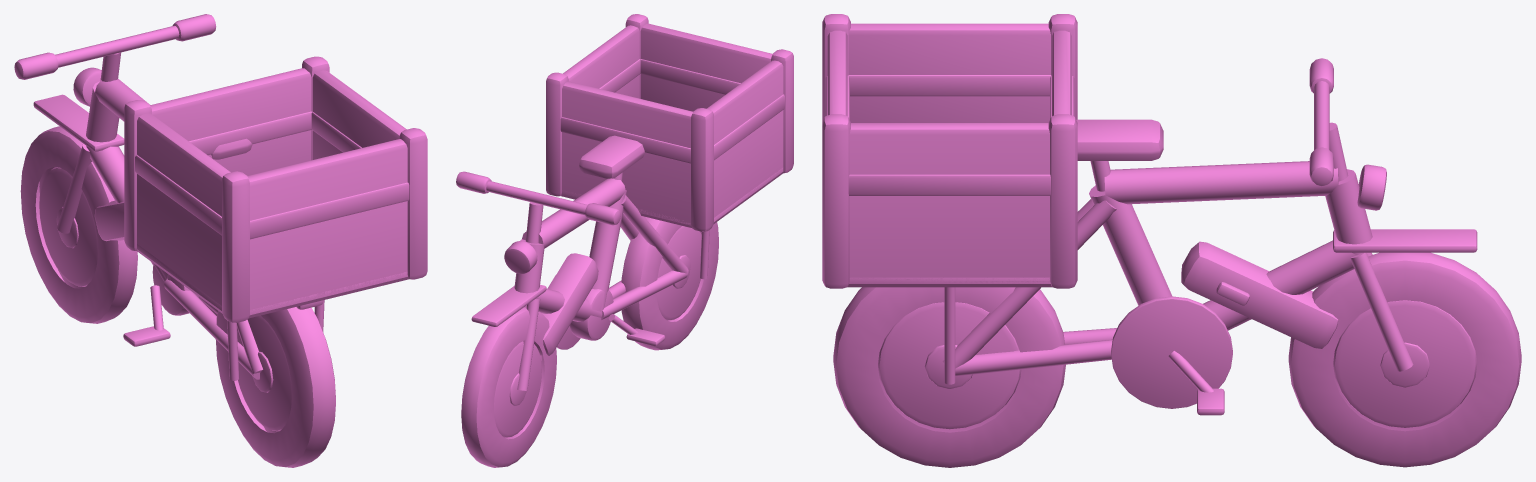
The model's file is Vehicle_EBike.fbx.
3 renders of one model, left to right at view 1: azimuth 30°, elevation 25°; view 2: azimuth 150°, elevation 25°; view 3: azimuth 270°, elevation 25°, orthographic. The views are drawn at different scales.
Parts seen in each view (by area): view 1: Body, FrontWheel, RearWheel, Paint; view 2: Body, FrontWheel, Paint, RearWheel; view 3: Body, FrontWheel, RearWheel, Paint.
Part boxes in pixels (x1=…): Body: x1=14, y1=14, x2=427, y2=380; FrontWheel: x1=20, y1=126, x2=137, y2=323; RearWheel: x1=215, y1=307, x2=335, y2=467; Paint: x1=33, y1=79, x2=262, y2=379; Body: x1=456, y1=14, x2=793, y2=390; FrontWheel: x1=461, y1=307, x2=556, y2=467; Paint: x1=471, y1=178, x2=688, y2=326; RearWheel: x1=621, y1=216, x2=718, y2=350; Body: x1=822, y1=14, x2=1413, y2=415; FrontWheel: x1=1288, y1=252, x2=1521, y2=467; RearWheel: x1=833, y1=287, x2=1065, y2=467; Paint: x1=942, y1=161, x2=1477, y2=376.
Size of the model in its own units: 2.4 by 3.95 by 6.3.
Materials: 1 (1 with a texture image).
